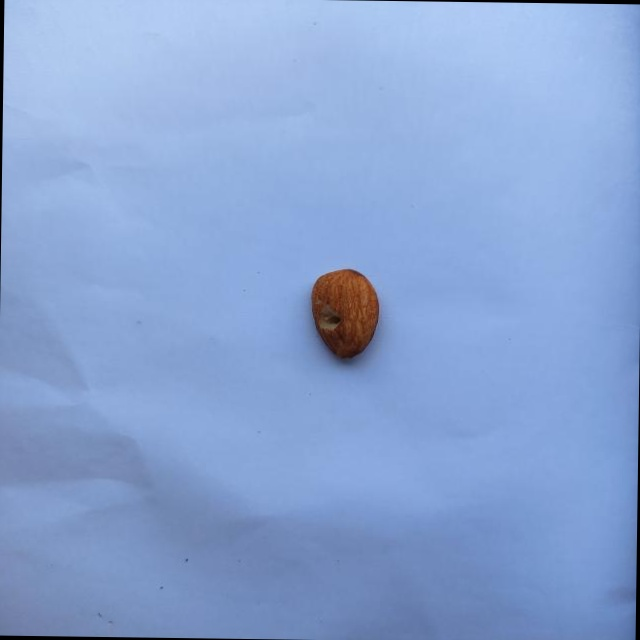grade3: (305, 265, 382, 364)
